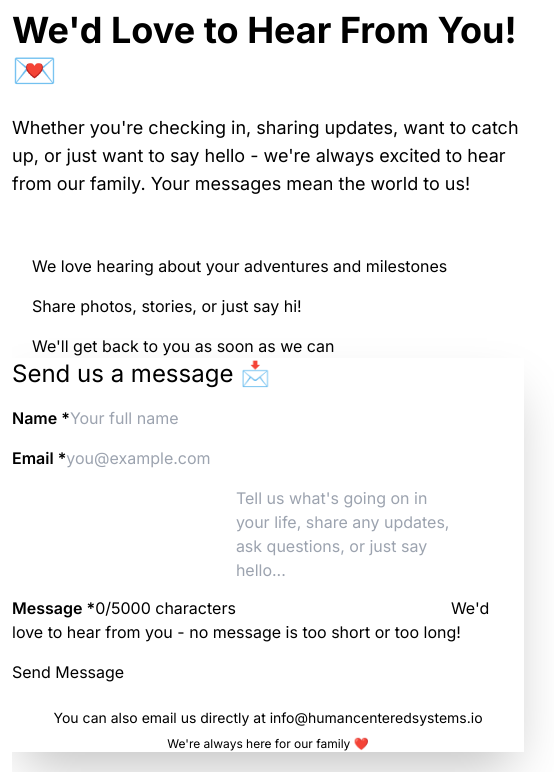
Test: Contact Page - Essential Tests › should submit form successfully
This screenshot has width=554, height=772.
// Fill out form
Type "John Doe" into the field labelled "Name *" at (187, 418), box [70, 406, 304, 430]
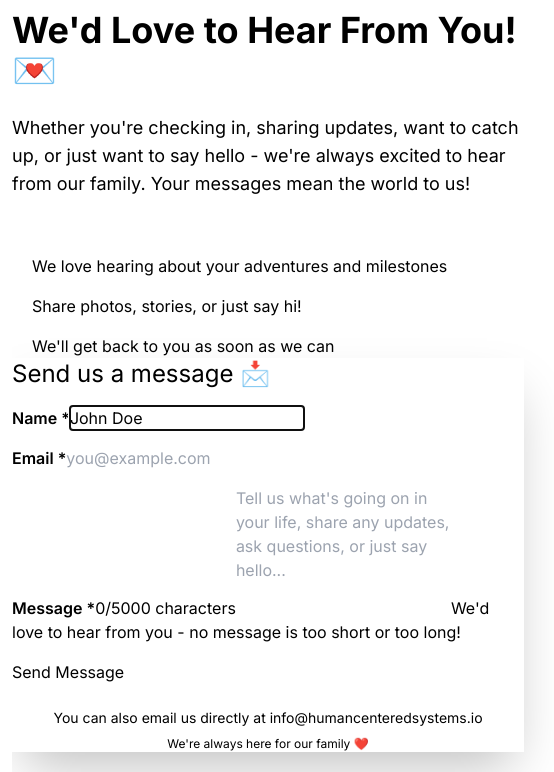
Type "john@example.com" into the field labelled "Email *" at (183, 458), box [66, 446, 300, 470]
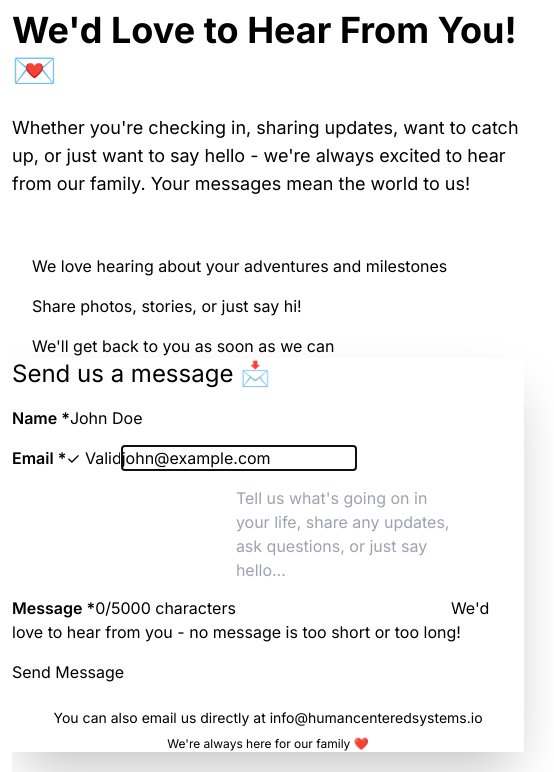
Type "This is my test message with enough characters" into the text box labelled "Message *0/5000 characters" at (343, 550), box [236, 486, 451, 614]
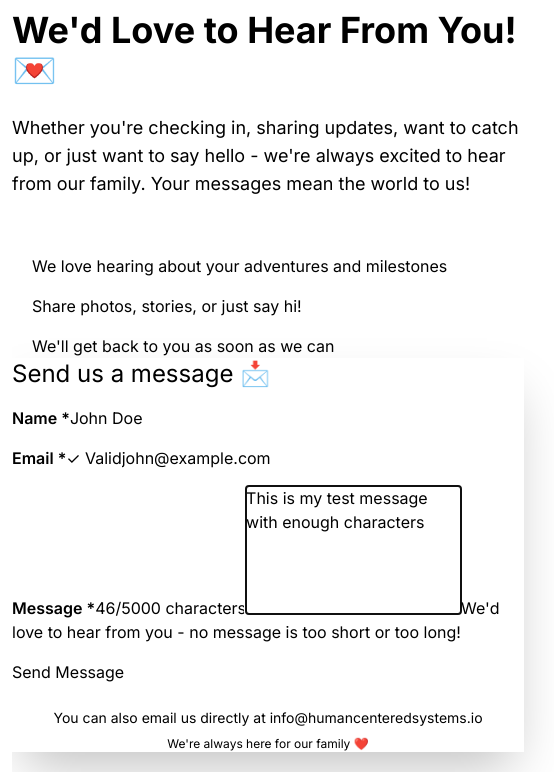
// Submit form
Click the button "Send Message" at (68, 672), box [12, 660, 124, 684]
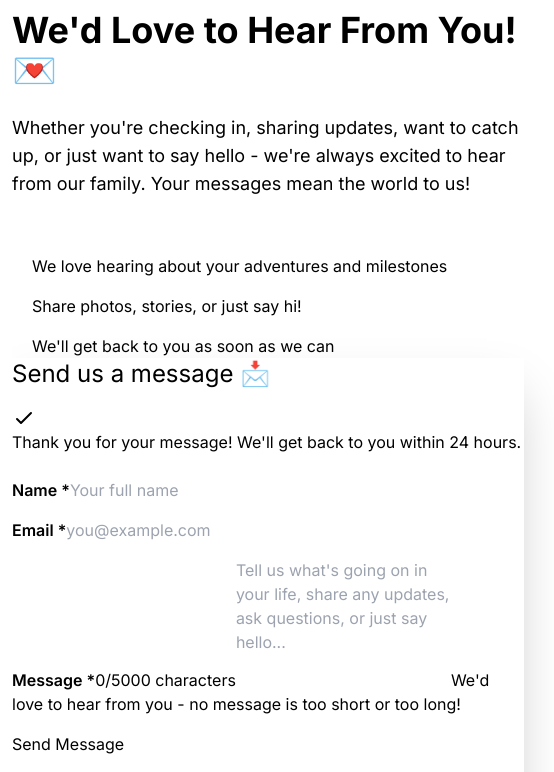
Result: the text "Thank you for your message" is shown at [12, 432, 521, 452]
Result: the field labelled "Name *" is empty at [70, 478, 304, 502]
Result: the field labelled "Email *" is empty at [66, 518, 300, 542]
